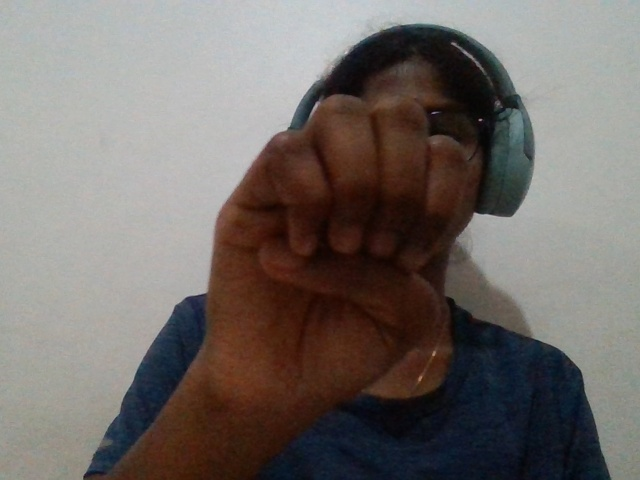E: (189, 74, 523, 469)
